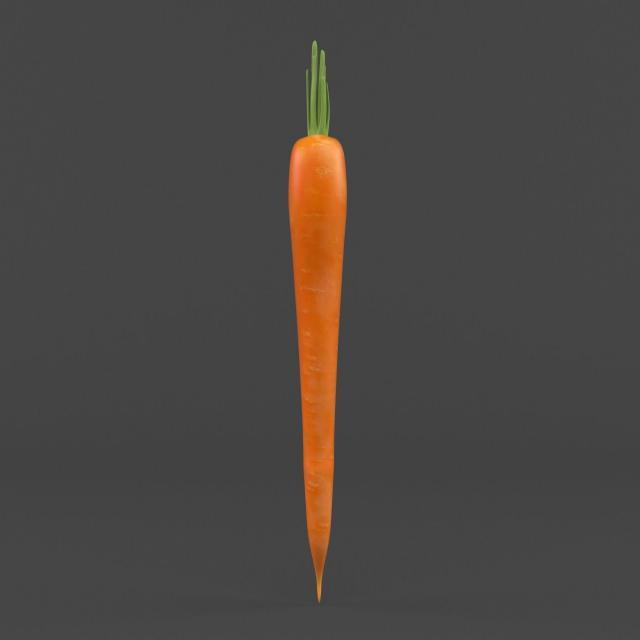carrot: (288, 129, 353, 609)
